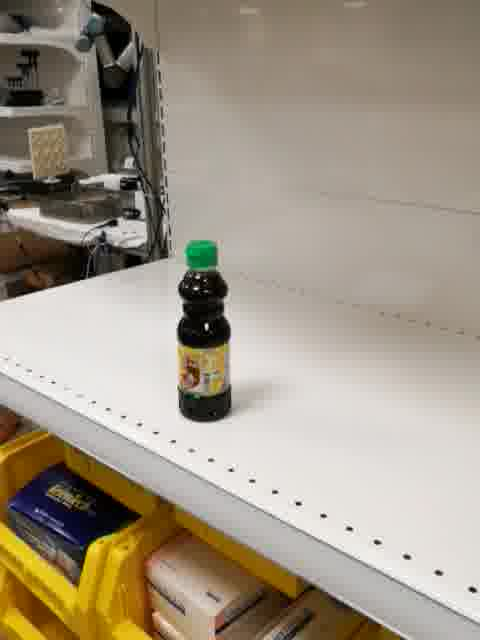cookingoil: (175, 237, 232, 423)
